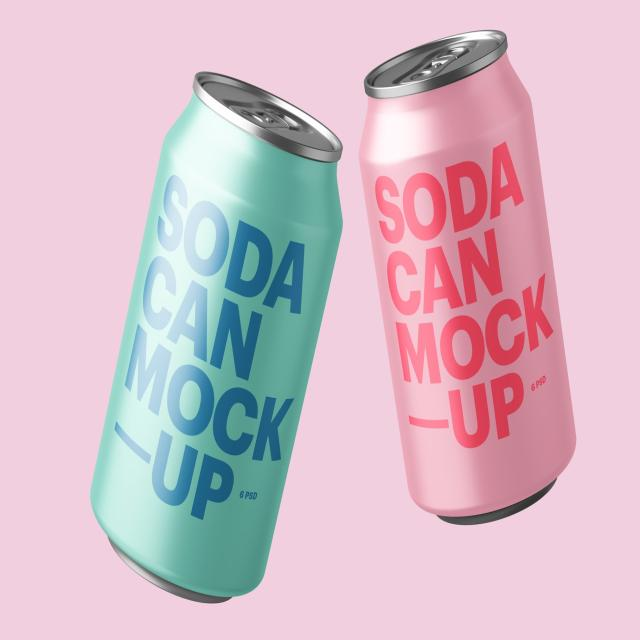can: (71, 66, 343, 607), (358, 30, 580, 528)
